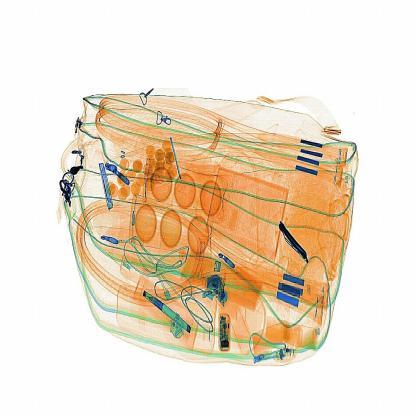knife: (280, 224, 309, 263)
